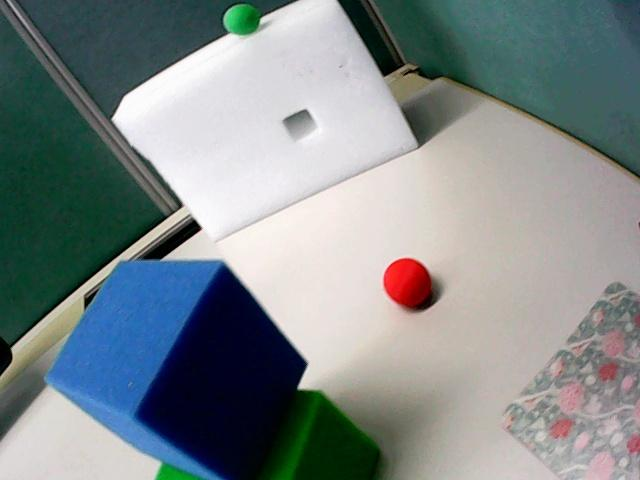blue_block: (47, 261, 305, 479)
